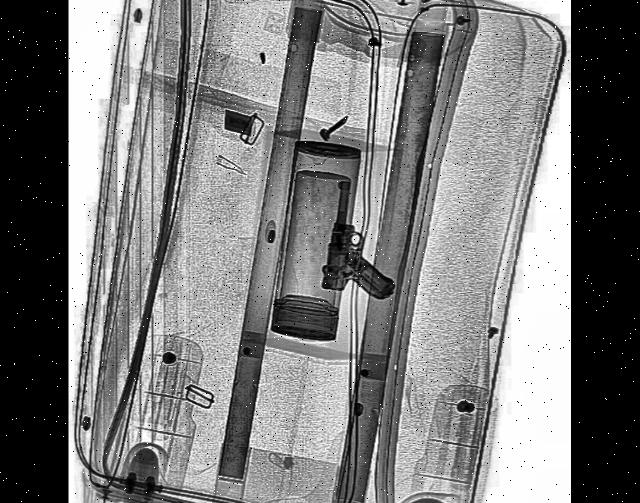Gun: (322, 176, 407, 307)
